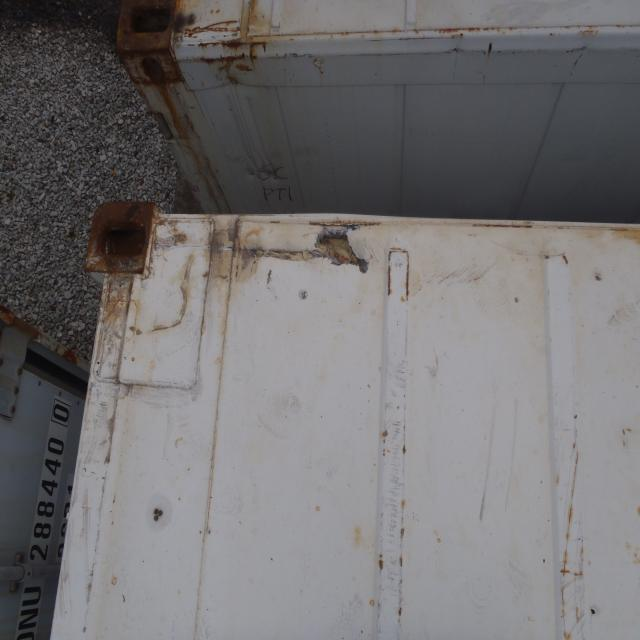hole: (230, 221, 370, 275)
